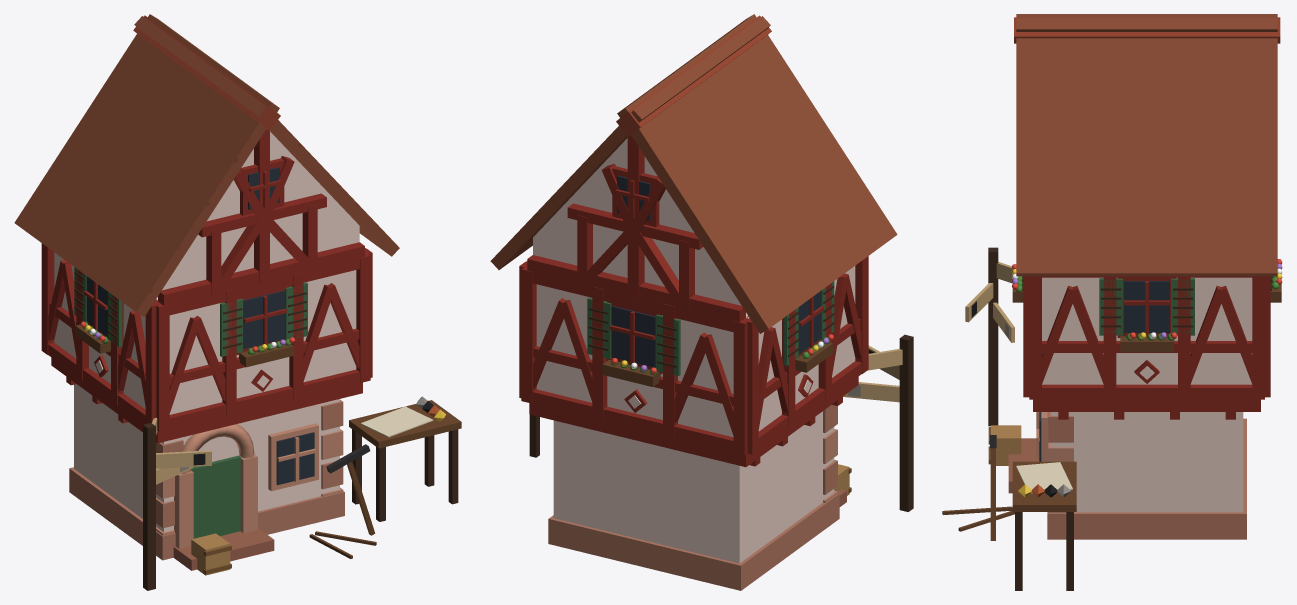
Rendered from rutengaenger.glb.
3 views of the same model, side by side, from view 1: azimuth 30°, elevation 25°; view 2: azimuth 150°, elevation 25°; view 3: azimuth 270°, elevation 25° (orthographic). The views are drawn at different scales.
Bounding box in the file's own units: 3.14 × 4.1 × 2.65.
